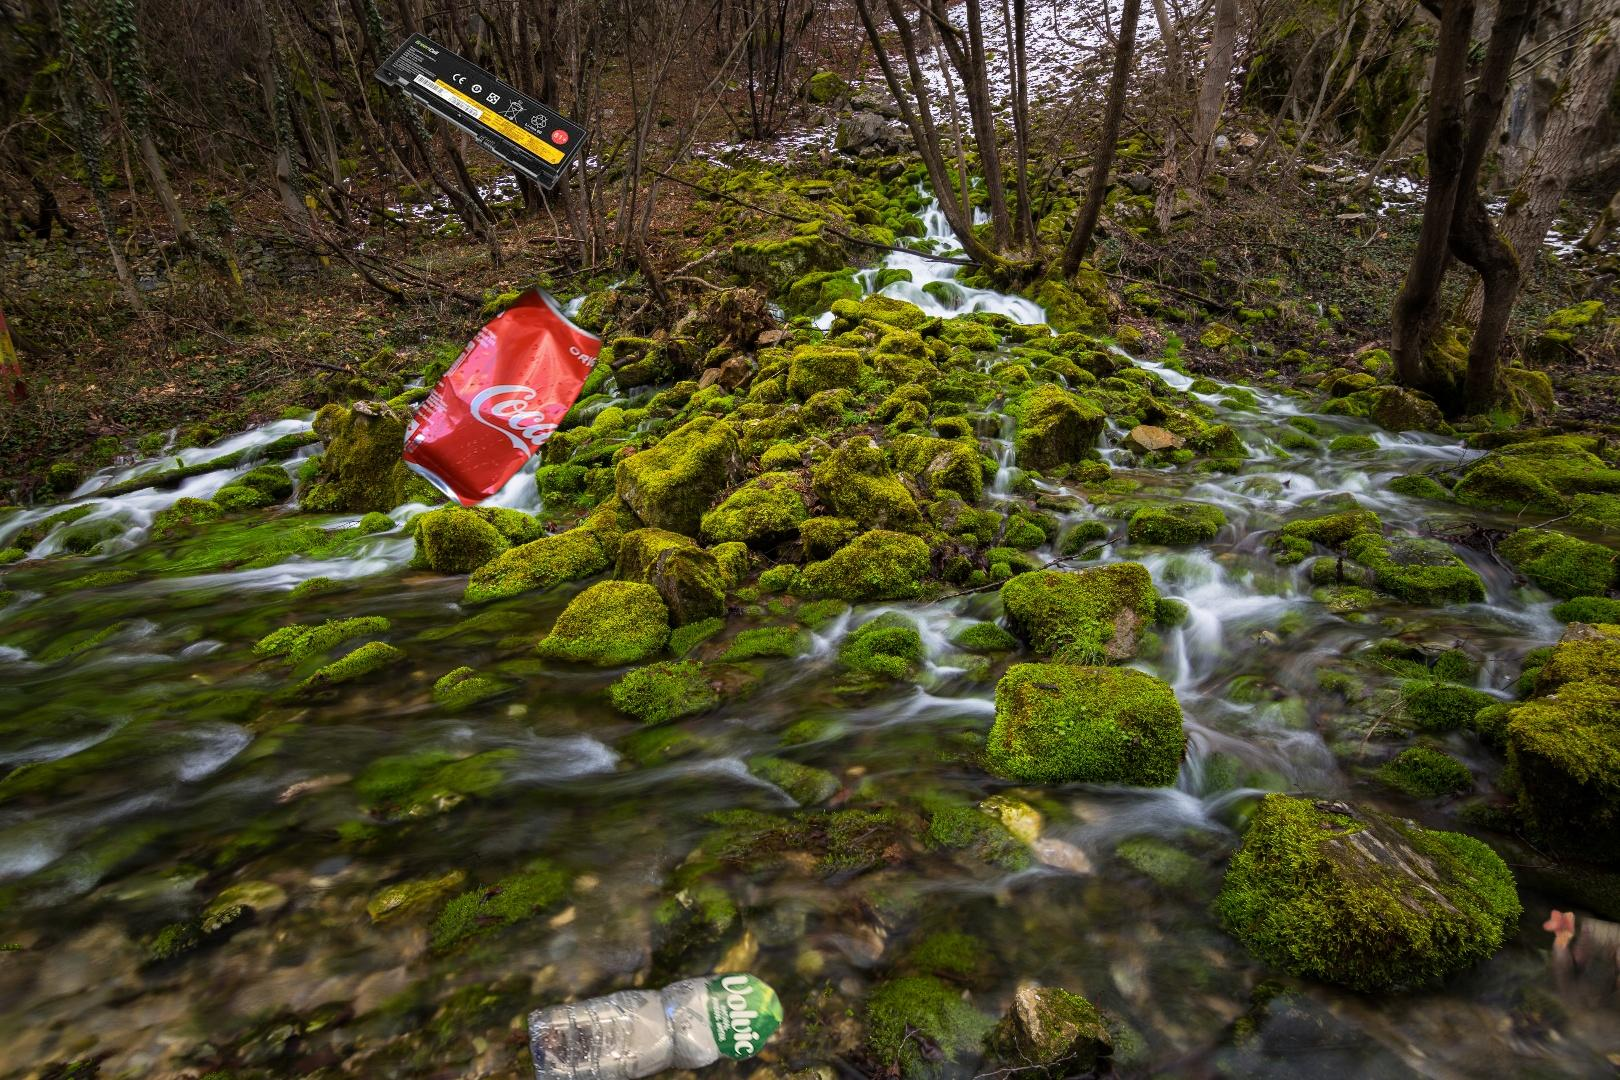battery: (371, 30, 593, 193)
metal-cans: (397, 277, 610, 513)
paper: (1287, 810, 1620, 1080)
plastic-bottles: (520, 965, 790, 1080)
